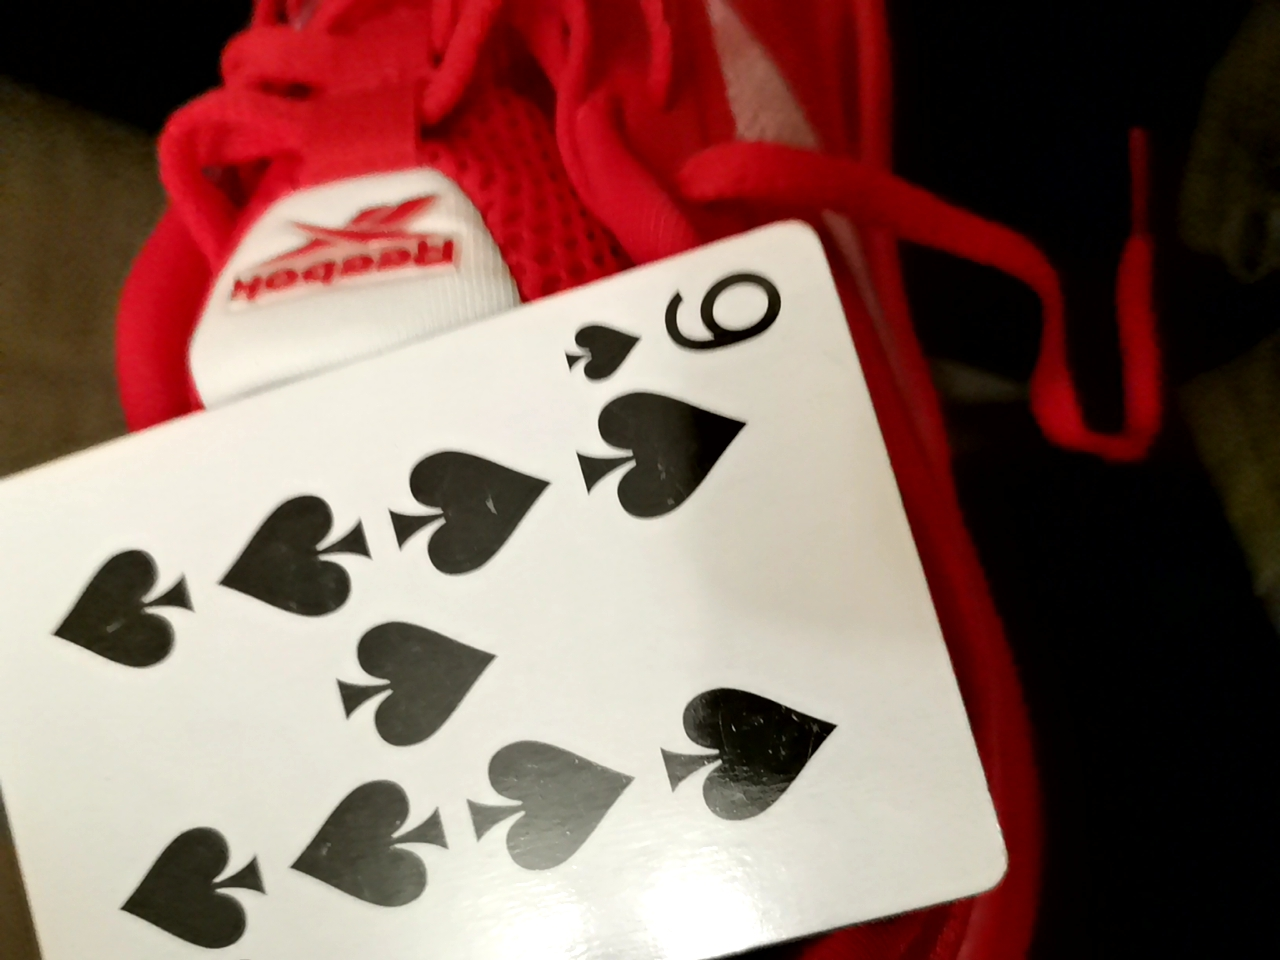ht 9: (0, 146, 988, 960)
